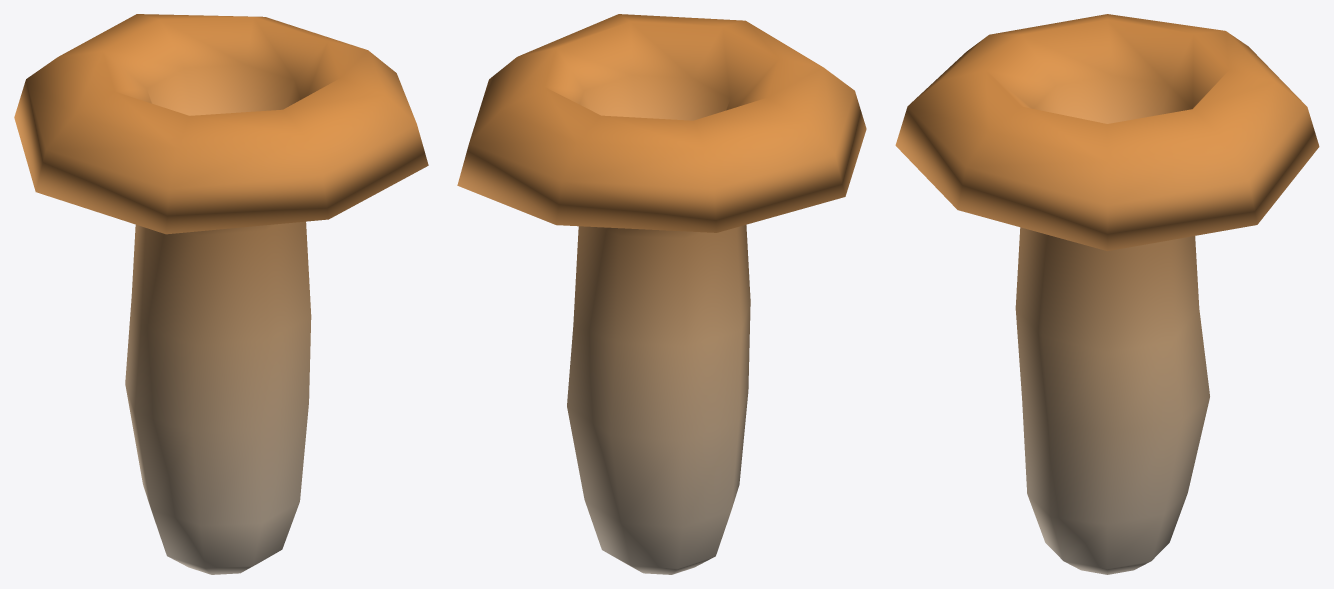
3 renders of one model, left to right at view 1: azimuth 30°, elevation 25°; view 2: azimuth 150°, elevation 25°; view 3: azimuth 270°, elevation 25°, orthographic.
Parts seen in each view (by area): view 1: lowpolymushroom_20; view 2: lowpolymushroom_20; view 3: lowpolymushroom_20.
Part boxes in pixels (bbox=[...]): lowpolymushroom_20: bbox=[14, 14, 428, 574]; lowpolymushroom_20: bbox=[457, 14, 866, 574]; lowpolymushroom_20: bbox=[895, 14, 1319, 574].
Bounding box in the file's own units: 0.3562 × 0.4577 × 0.3562.
